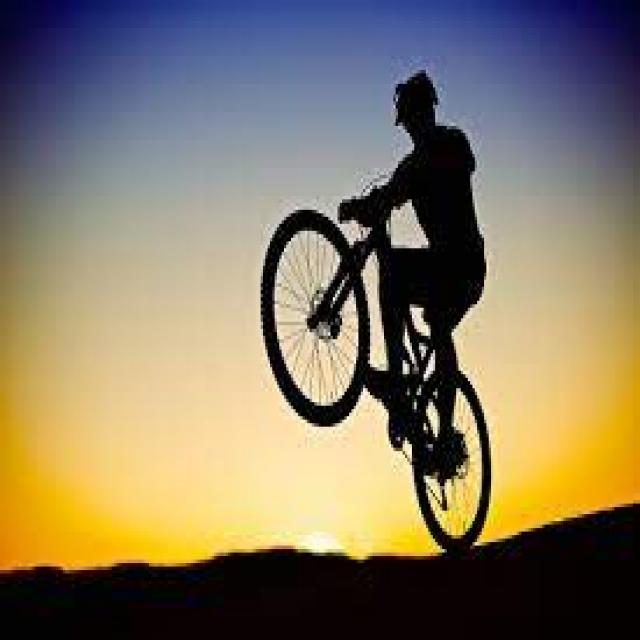Wheeling: (254, 63, 500, 598)
